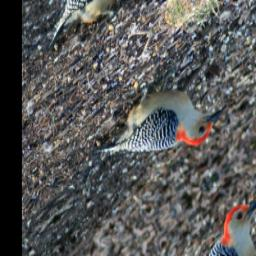Woodpecker: (87, 38, 230, 210)
